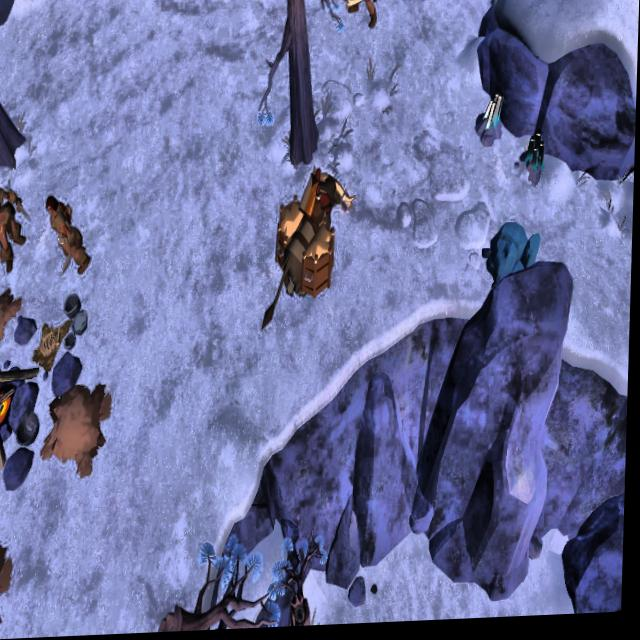enemy_factionKeeper: (47, 192, 98, 281), (0, 184, 37, 278)
ore_t4: (524, 135, 547, 178), (484, 94, 504, 140)
rock_t4: (487, 222, 547, 294)
